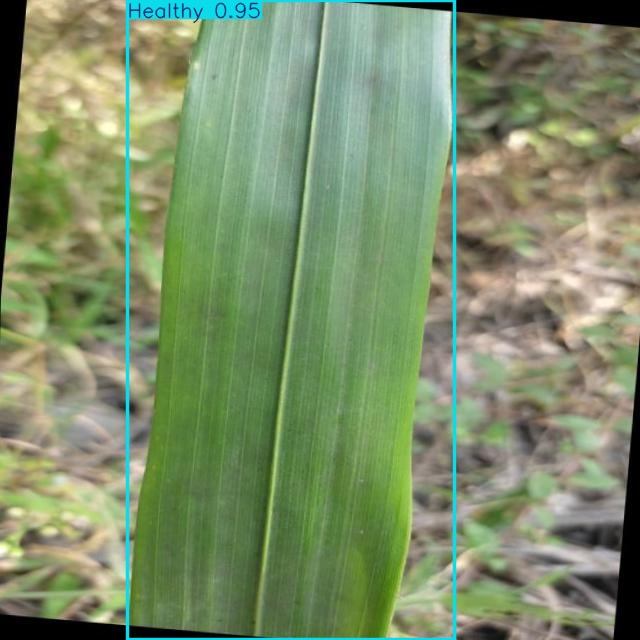Healthy: (127, 0, 455, 640)
